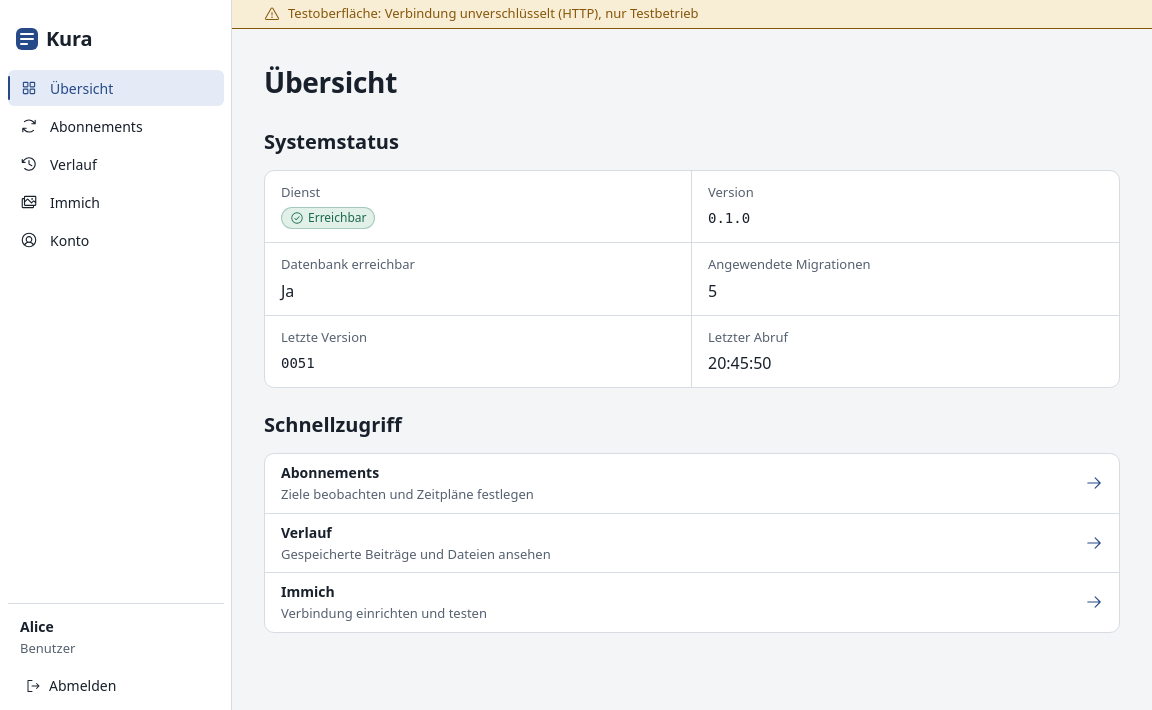
Test: validates the saved address after saving and shows the stored result on the card
Expected: the text "Erreichbar" is shown, [281,207,376,229]
Click the button "Abonnements" at (116, 126), box [8,108,224,144]
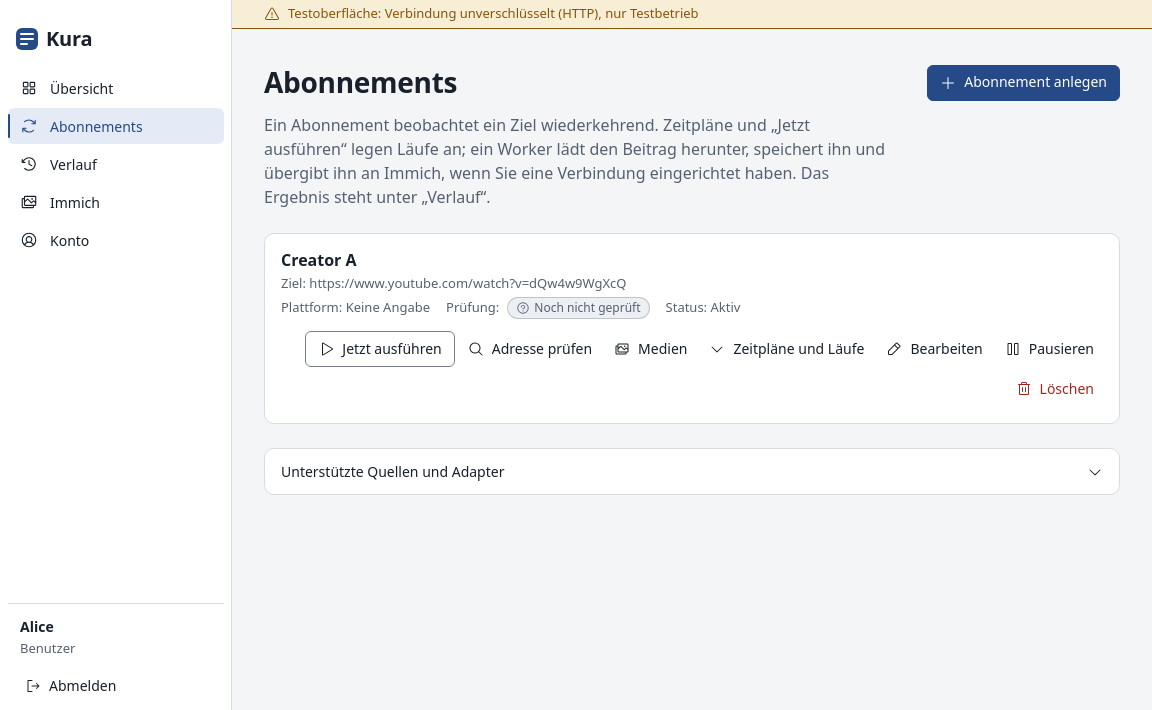
Now the heading "Abonnements" is shown, box [264,65,457,100]
Click the button "Abonnement anlegen" at (1024, 82), box [927,64,1120,100]
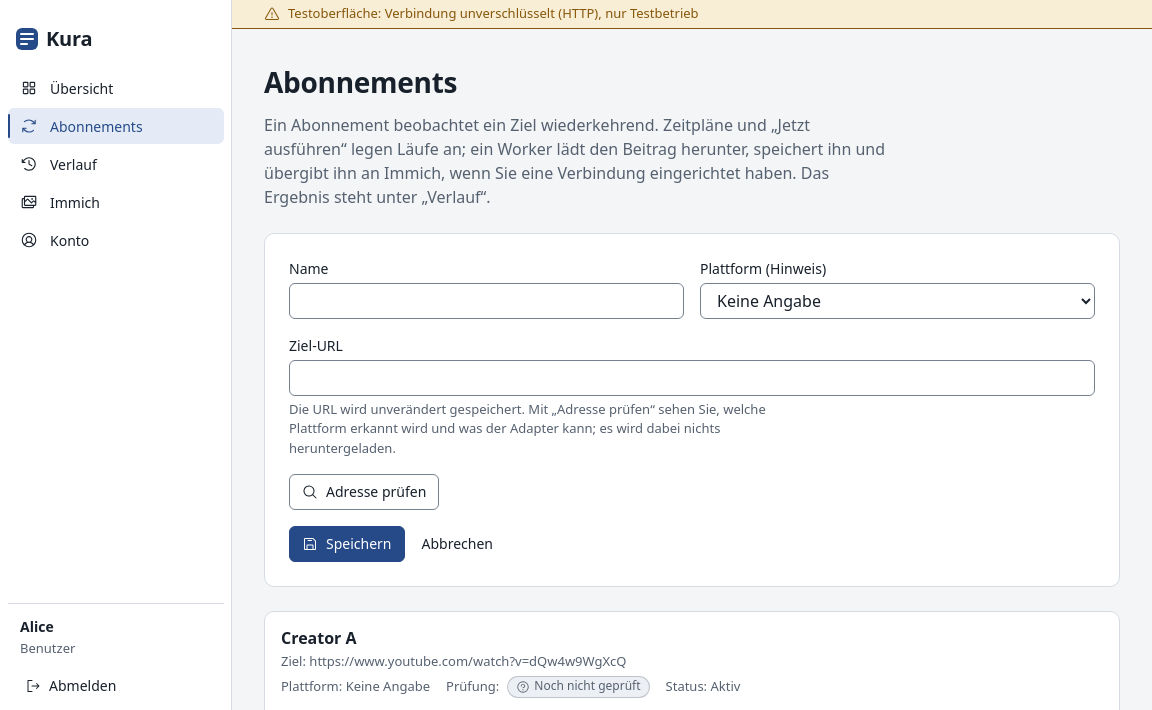
Type "Creator A" into the field labelled "Name" at (486, 300), box [289,282,684,318]
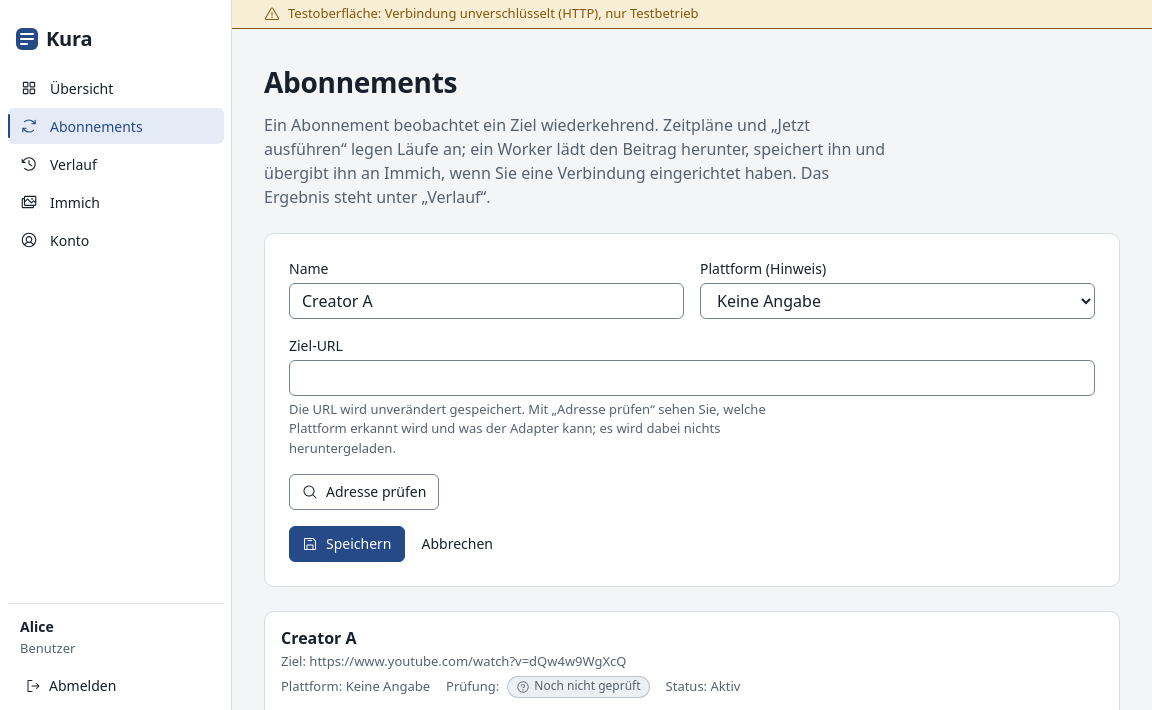
Type "https://www.youtube.com/watch?v=dQw4w9WgXcQ" into the field labelled "Ziel-URL" at (692, 378), box [289,360,1095,396]
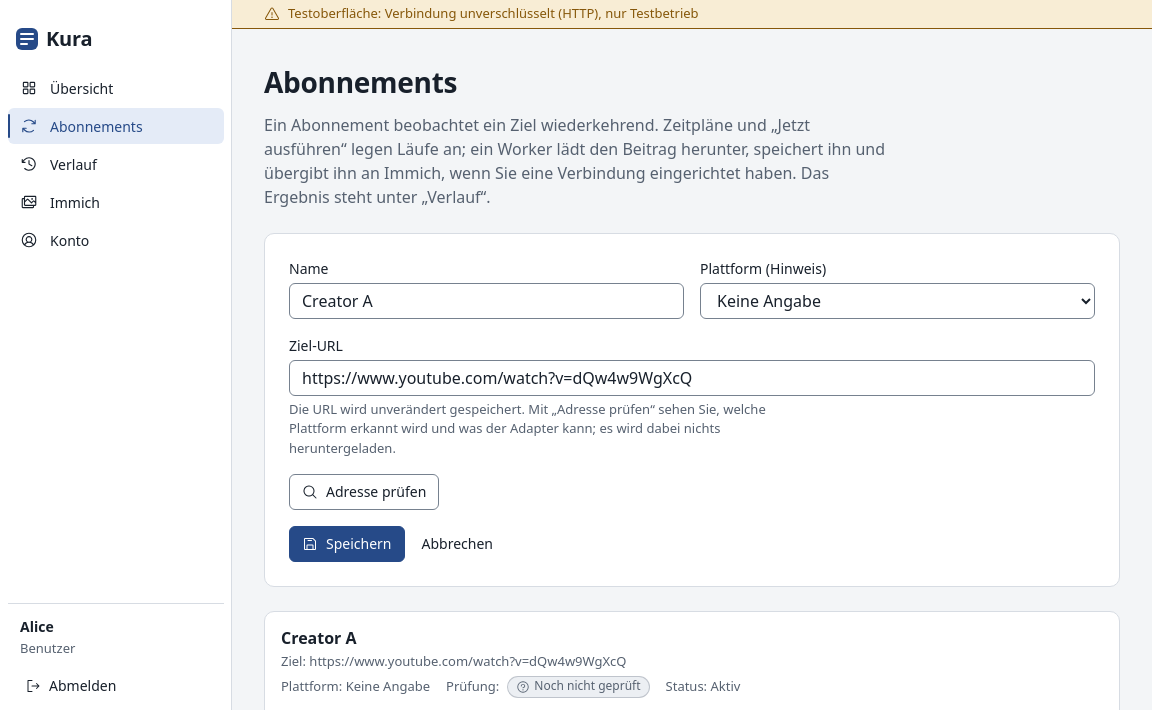
Submit the form named "Abonnement anlegen", box [264,232,1120,587]
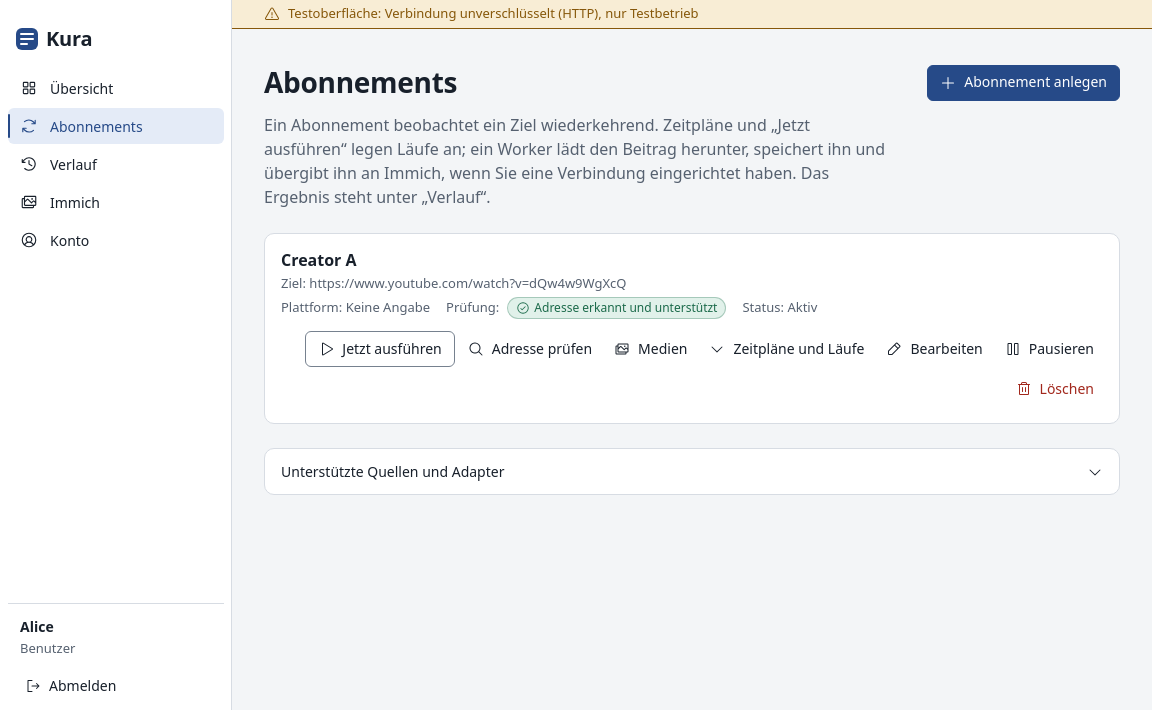
Now the text "Adresse erkannt und unterstützt" is shown, box [507,297,726,319]
